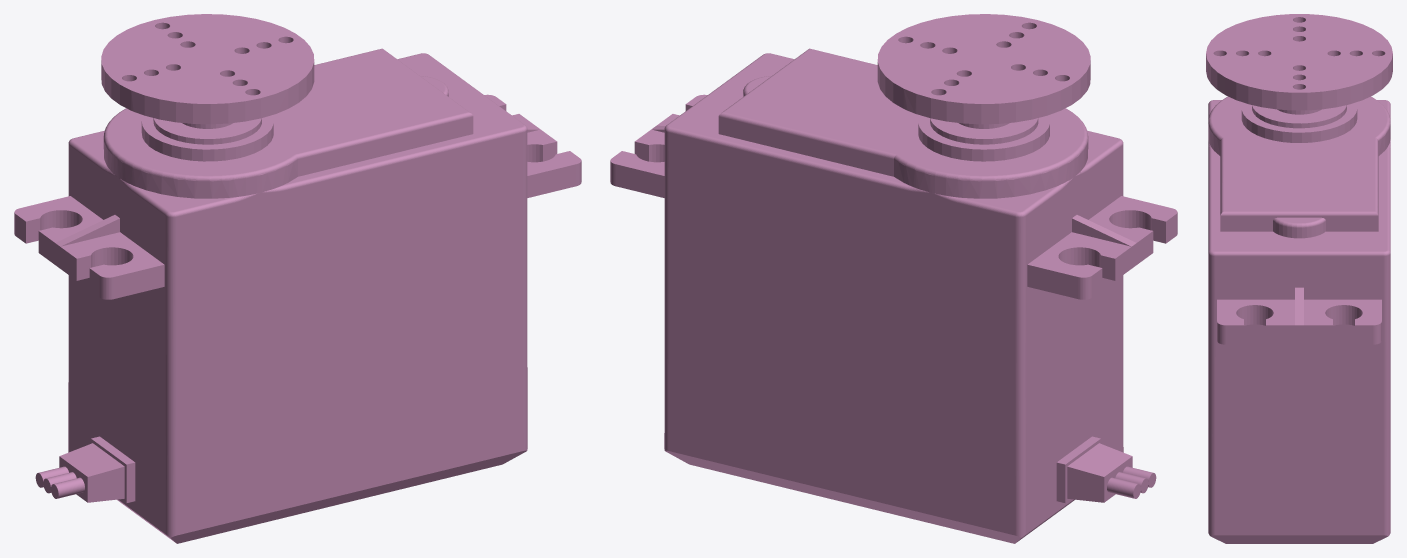
Rendered from case-01_lib00002.glb.
3 views of the same model, side by side, from view 1: azimuth 30°, elevation 25°; view 2: azimuth 150°, elevation 25°; view 3: azimuth 270°, elevation 25° (orthographic). The views are drawn at different scales.
Visible parts, largest first — view 1: lib00002; view 2: lib00002; view 3: lib00002.
Boxes of the visible parts, x1=… form: lib00002: x1=14, y1=14, x2=581, y2=543; lib00002: x1=610, y1=14, x2=1177, y2=543; lib00002: x1=1206, y1=14, x2=1392, y2=543.
Bounding box in the file's own units: 78 × 66.26 × 29.35.
